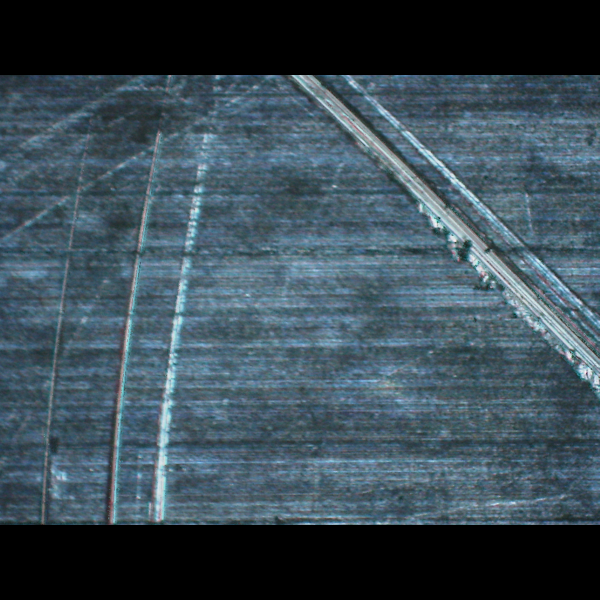d: (267, 74, 600, 399), (27, 95, 237, 524)
